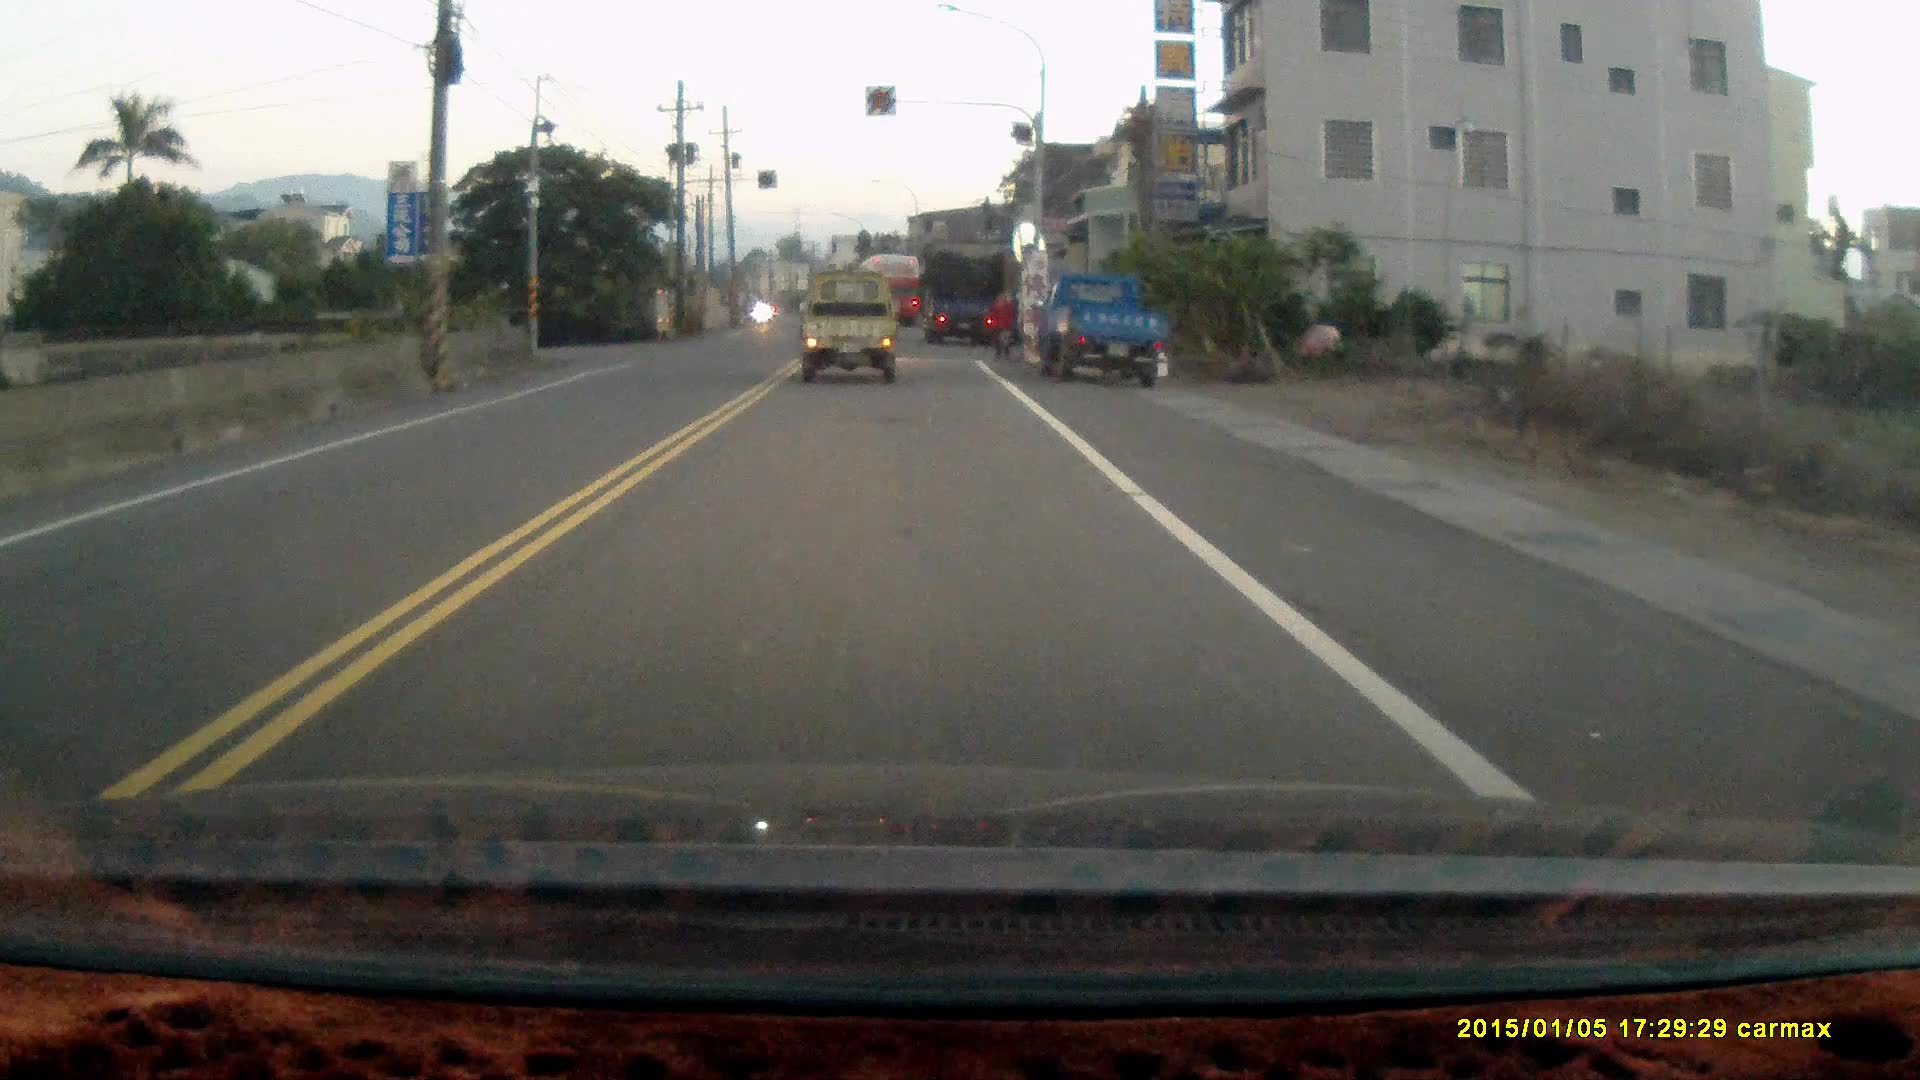pedestrian: (985, 278, 1016, 353)
vehicle: (1031, 267, 1170, 387), (802, 274, 907, 383), (924, 244, 1007, 341)
